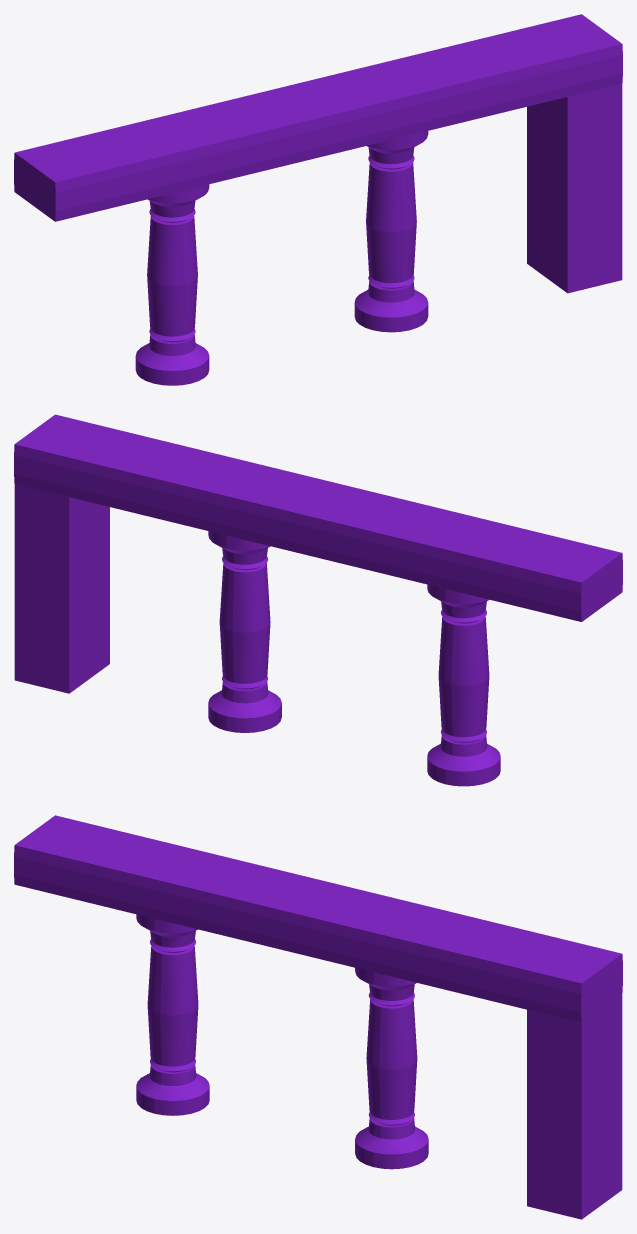
Rendered from Unity HD Render Pipeline (Metallic Standard).fbx.
3 renders of one model, top to bottom at view 1: azimuth 30°, elevation 25°; view 2: azimuth 150°, elevation 25°; view 3: azimuth 330°, elevation 25°, orthographic.
Visible parts, largest first — view 1: BarrierRepetition; view 2: BarrierRepetition; view 3: BarrierRepetition.
Part boxes in pixels (left/top/right/bottom): BarrierRepetition: left=14, top=14, right=622, bottom=385; BarrierRepetition: left=14, top=414, right=622, bottom=786; BarrierRepetition: left=14, top=815, right=622, bottom=1219.
Size of the model in its own units: 1.82 by 0.727 by 0.2325.
